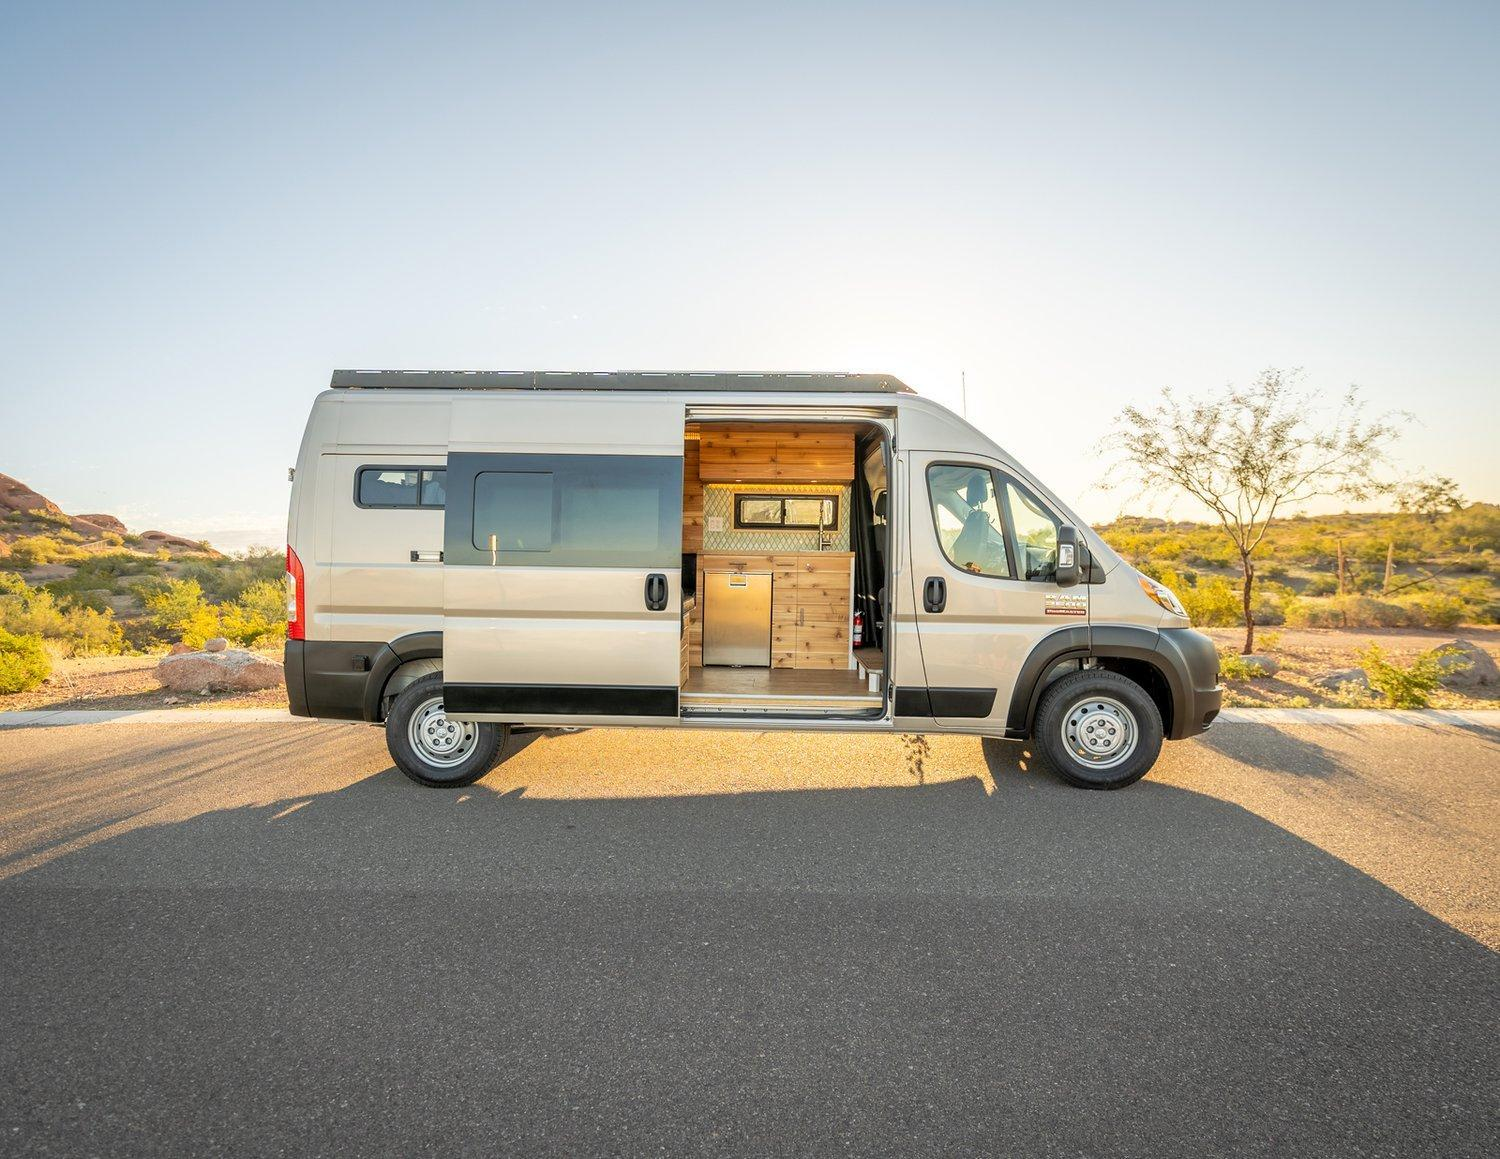car: (270, 337, 1239, 806)
